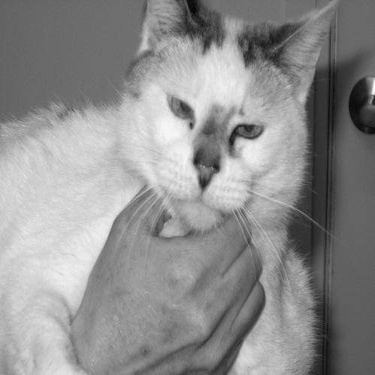cat: (1, 2, 320, 371)
